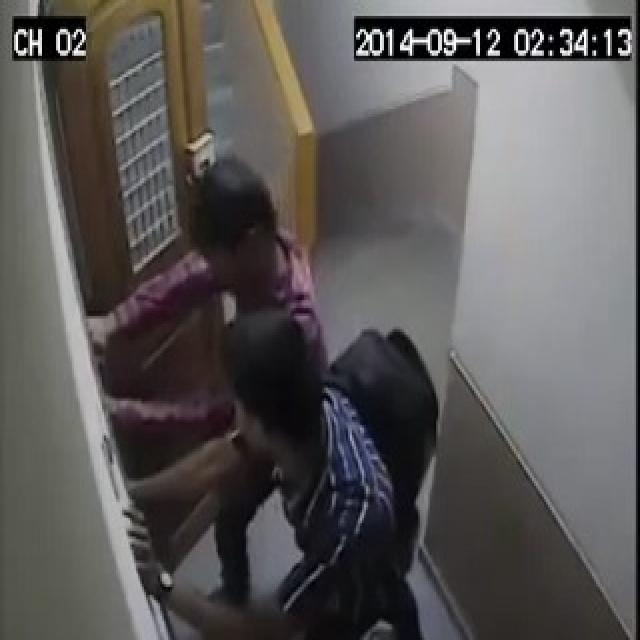burglary: (59, 265, 304, 568)
